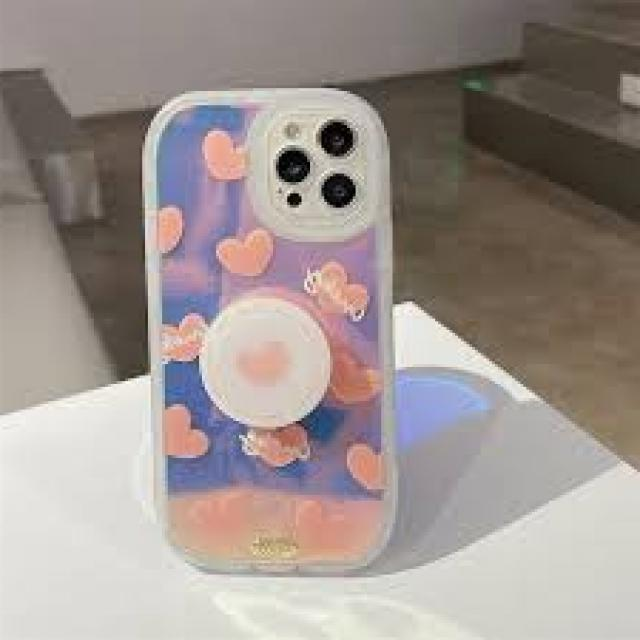mobile: (150, 86, 397, 577)
